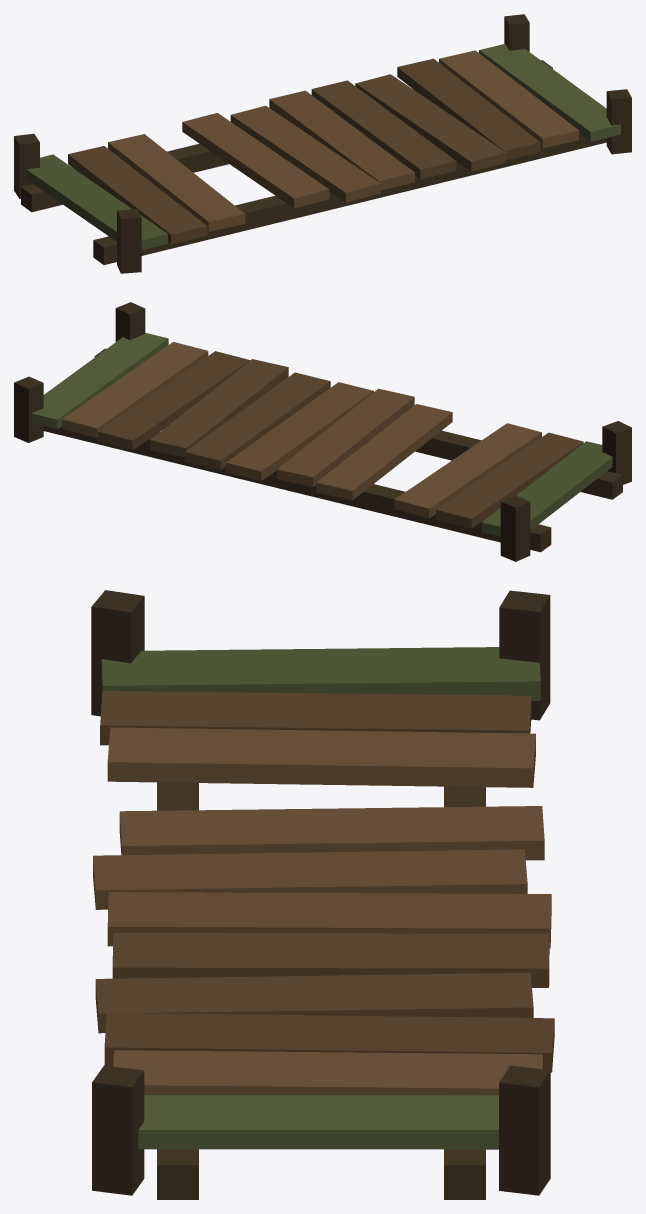
File: fen_walkway_01.glb
3 renders of one model, top to bottom at view 1: azimuth 30°, elevation 25°; view 2: azimuth 150°, elevation 25°; view 3: azimuth 270°, elevation 25°, orthographic. The views are drawn at different scales.
Parts seen in each view (by area): view 1: fen_walkway_01; view 2: fen_walkway_01; view 3: fen_walkway_01.
Part boxes in pixels (<box>): fen_walkway_01: <box>14,14,631,273</box>; fen_walkway_01: <box>14,302,631,561</box>; fen_walkway_01: <box>91,590,554,1199</box>.
Bounding box in the file's own units: 1 × 0.1 × 0.3872.
